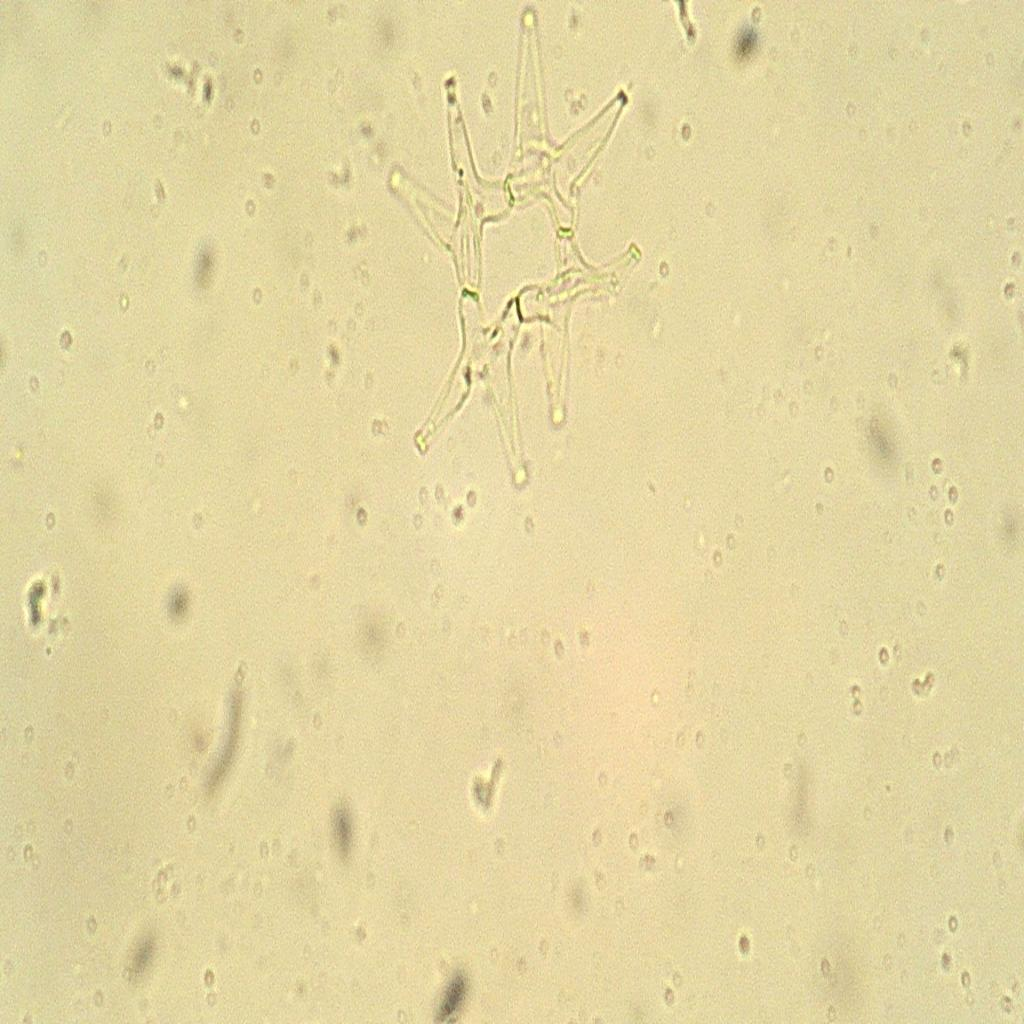Pediastrum_75TH: (380, 1, 648, 501)
